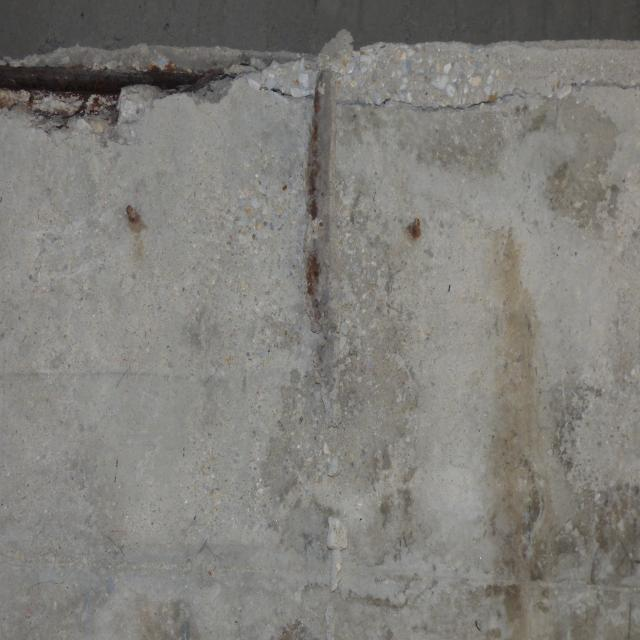corrosion: (272, 80, 339, 342), (114, 191, 155, 258), (398, 210, 430, 247)
